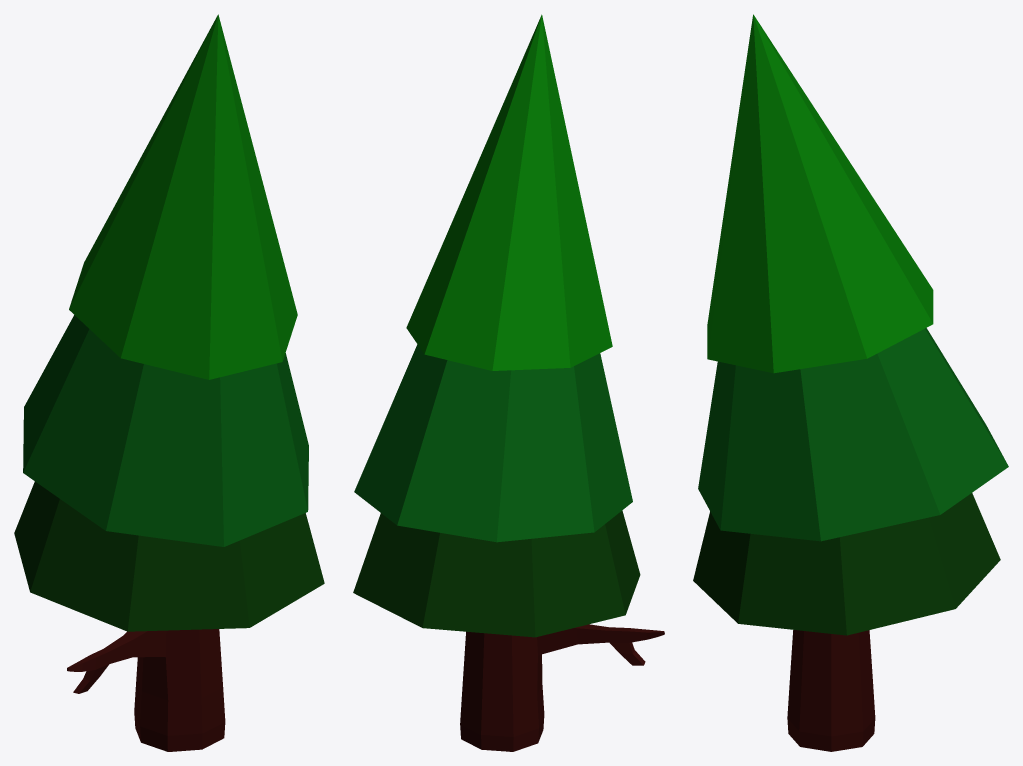
Rendered from PinheiroVar1.fbx.
3 views of the same model, side by side, from view 1: azimuth 30°, elevation 25°; view 2: azimuth 150°, elevation 25°; view 3: azimuth 270°, elevation 25° (orthographic). The views are drawn at different scales.
Parts seen in each view (by area): view 1: PinheiroVar2; view 2: PinheiroVar2; view 3: PinheiroVar2.
Boxes of the visible parts, box(x1,y1,x2,y2) form: PinheiroVar2: box(14, 14, 324, 751); PinheiroVar2: box(353, 14, 664, 751); PinheiroVar2: box(693, 14, 1008, 751).
Size of the model in its own units: 202 by 518 by 205.
